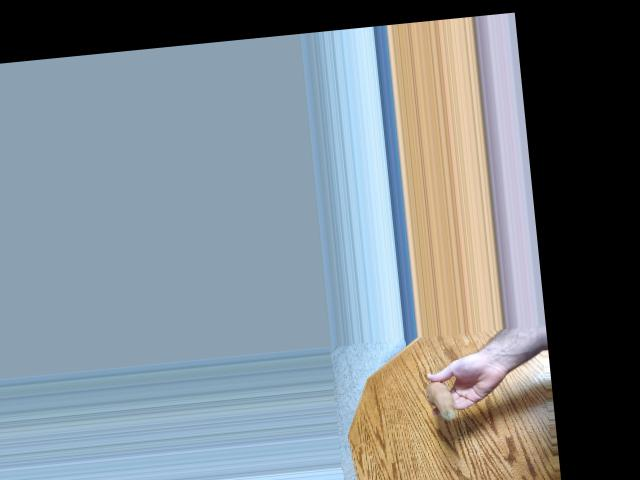sweet_potato: (429, 376, 460, 422)
